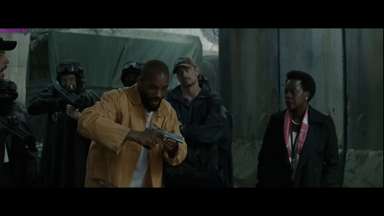firearm: (51, 77, 84, 111), (146, 122, 186, 145)
